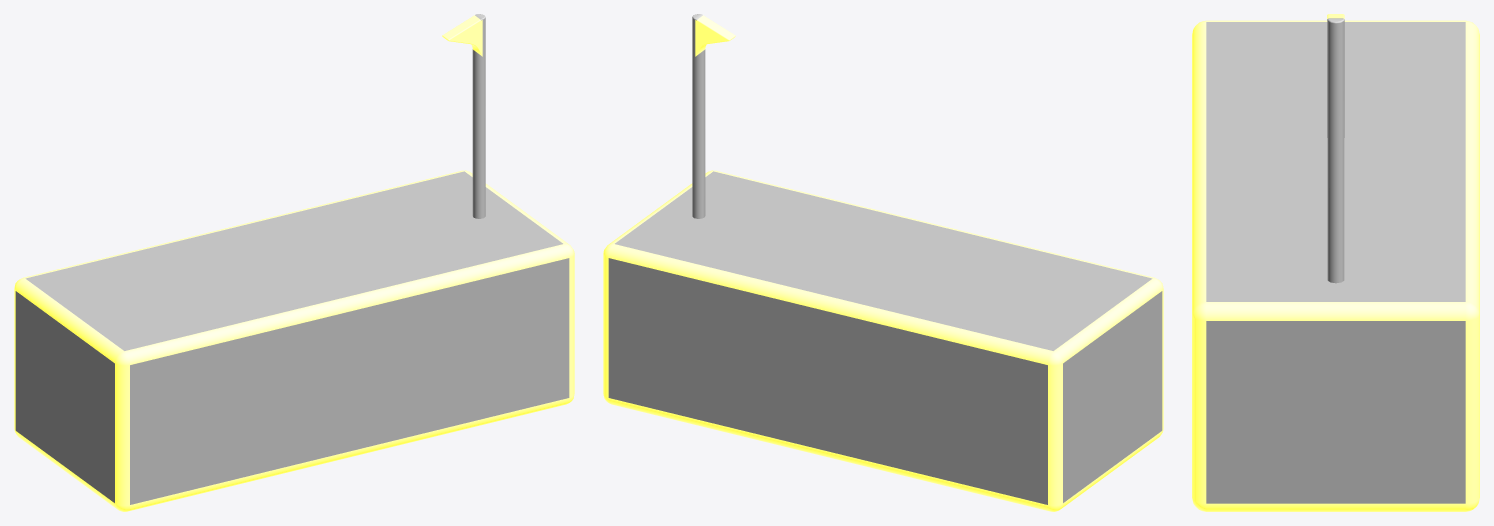
File: cart_start_textured.fbx
3 renders of one model, left to right at view 1: azimuth 30°, elevation 25°; view 2: azimuth 150°, elevation 25°; view 3: azimuth 270°, elevation 25°, orthographic. The views are drawn at different scales.
Visible parts, largest first — view 1: Cart_End Updated; view 2: Cart_End Updated; view 3: Cart_End Updated.
Boxes of the visible parts, x1,y1,x2,y2 form: Cart_End Updated: (14, 14, 574, 511); Cart_End Updated: (603, 14, 1163, 511); Cart_End Updated: (1192, 14, 1479, 511).
Bounding box in the file's own units: 24000 × 18000 × 10000.
